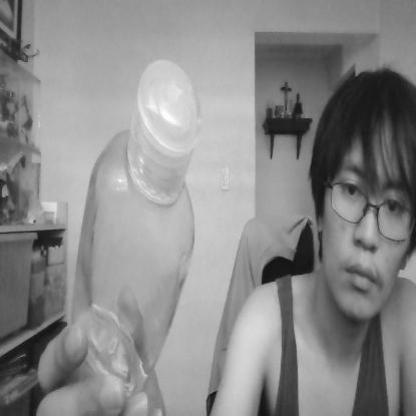Plastic Bottle: (59, 61, 200, 416)
